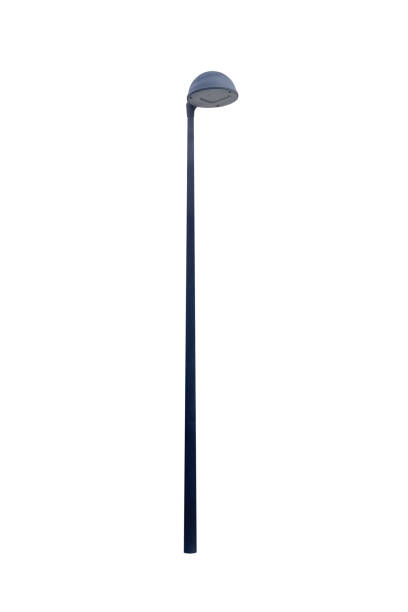light_pole: (181, 120, 200, 550)
